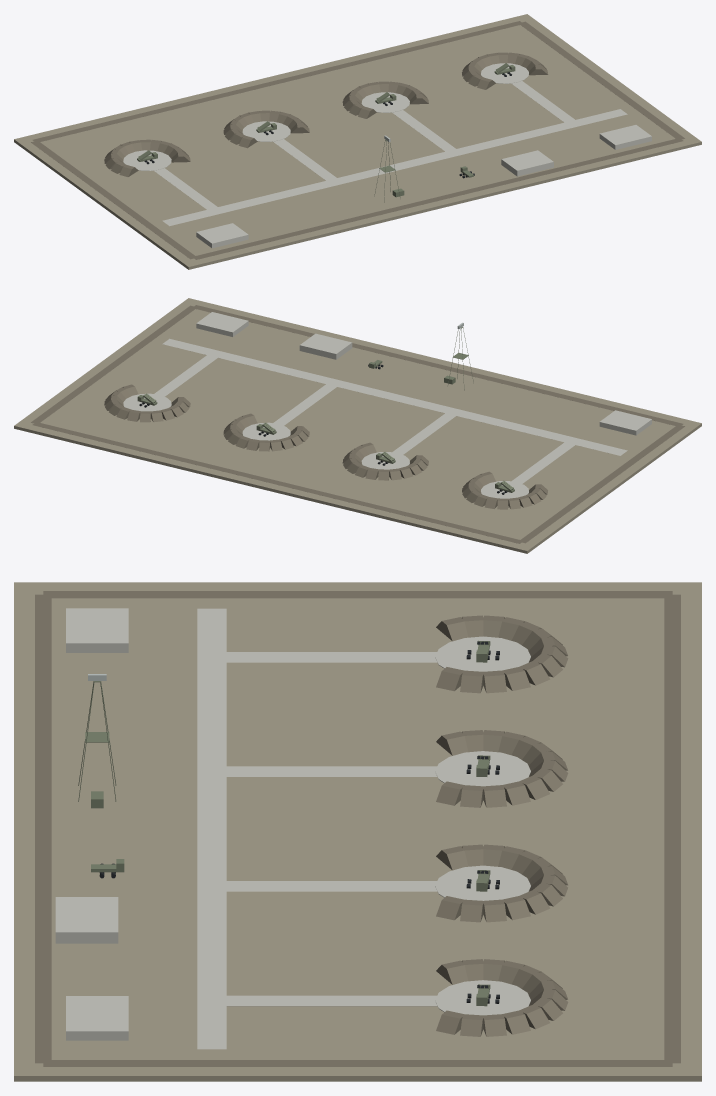
File: irn_battery_qader.glb
The picture shows the model from 3 angles, top to bottom: view 1: azimuth 30°, elevation 25°; view 2: azimuth 150°, elevation 25°; view 3: azimuth 270°, elevation 25°; orthographic projection. The views are drawn at different scales.
Visible parts, largest first — view 1: earth, earth_dark, concrete, drab; view 2: earth, earth_dark, concrete, drab; view 3: earth, earth_dark, concrete, drab.
Part boxes in pixels (x1=…): earth: x1=14, y1=14, x2=701, y2=269; earth_dark: x1=31, y1=21, x2=684, y2=259; concrete: x1=123, y1=63, x2=651, y2=248; drab: x1=137, y1=63, x2=515, y2=202; earth: x1=14, y1=298, x2=701, y2=553; earth_dark: x1=31, y1=305, x2=684, y2=543; concrete: x1=123, y1=312, x2=651, y2=498; drab: x1=137, y1=327, x2=514, y2=492; earth: x1=14, y1=582, x2=701, y2=1081; earth_dark: x1=35, y1=591, x2=680, y2=1066; concrete: x1=55, y1=608, x2=530, y2=1049; drab: x1=78, y1=640, x2=490, y2=1006.
Bounding box in the file's own units: 10 × 1.18 × 5.89.
